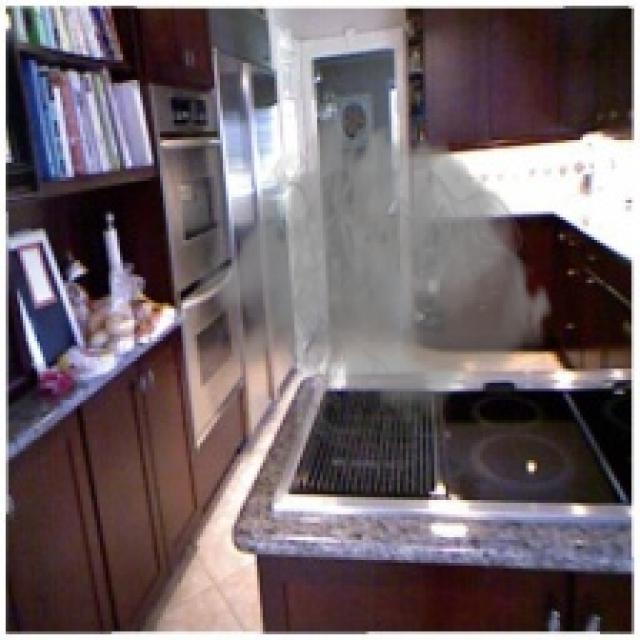smoke: (195, 91, 554, 452)
